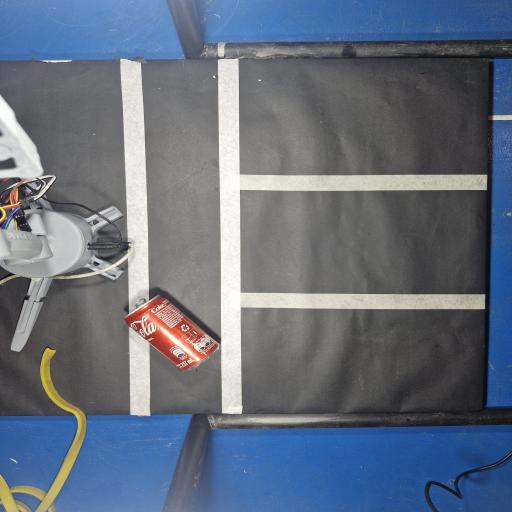lata: (125, 295, 218, 370)
